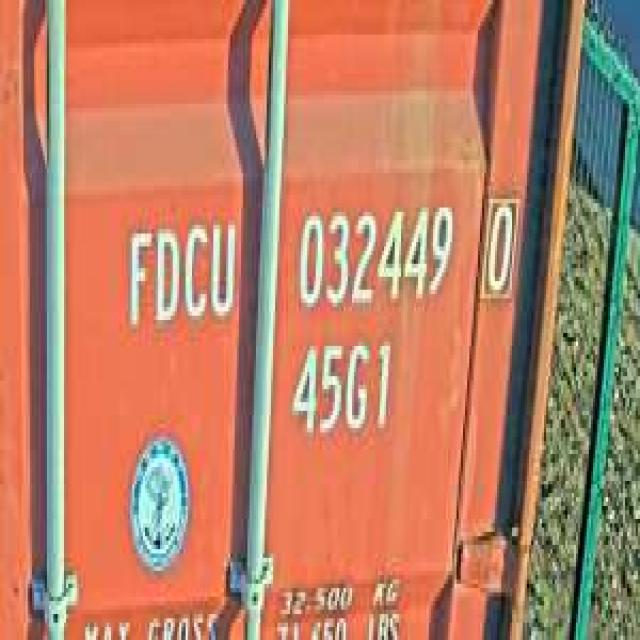dv: (478, 182, 520, 307)
owner: (122, 208, 239, 337)
serial: (290, 195, 457, 320)
size: (286, 333, 395, 450)
